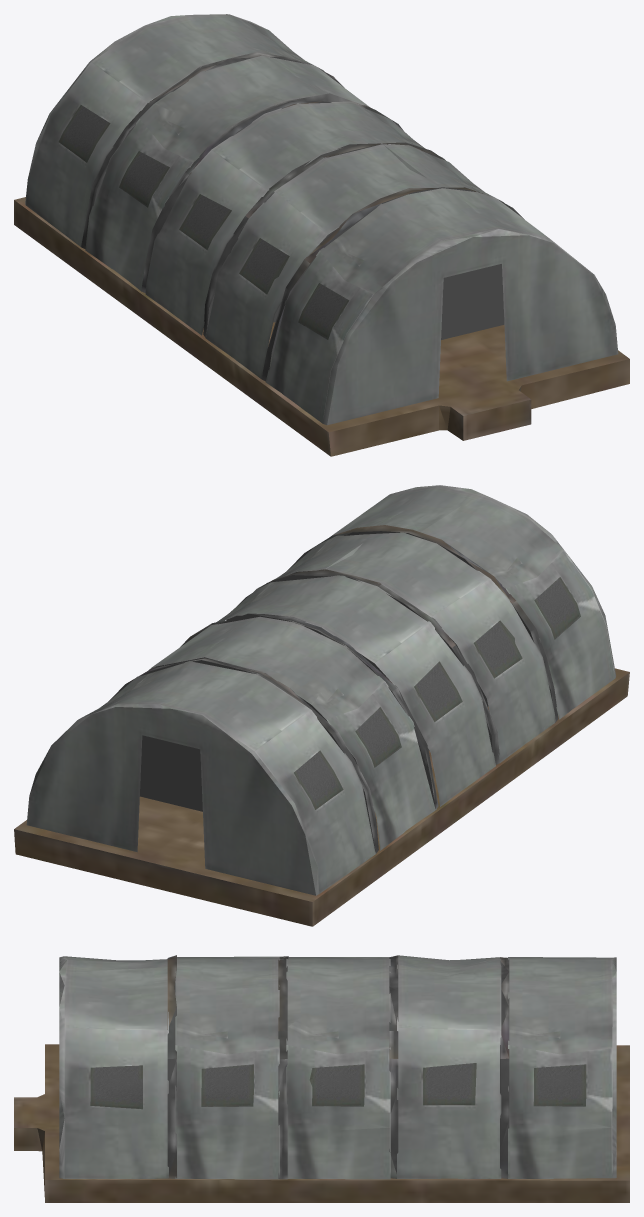
Rendered from wl_mil_tent_b.glb.
3 views of the same model, one above another, from view 1: azimuth 30°, elevation 25°; view 2: azimuth 150°, elevation 25°; view 3: azimuth 270°, elevation 25° (orthographic). The views are drawn at different scales.
Parts seen in each view (by area): view 1: wl_mil_tent_b; view 2: wl_mil_tent_b; view 3: wl_mil_tent_b.
Part boxes in pixels (x1,y1,x2,y2): wl_mil_tent_b: (14, 14, 629, 456); wl_mil_tent_b: (14, 485, 629, 926); wl_mil_tent_b: (14, 955, 629, 1202).
Size of the model in its own units: 7.6 by 4.32 by 14.51.
1 material, 1 textured.
